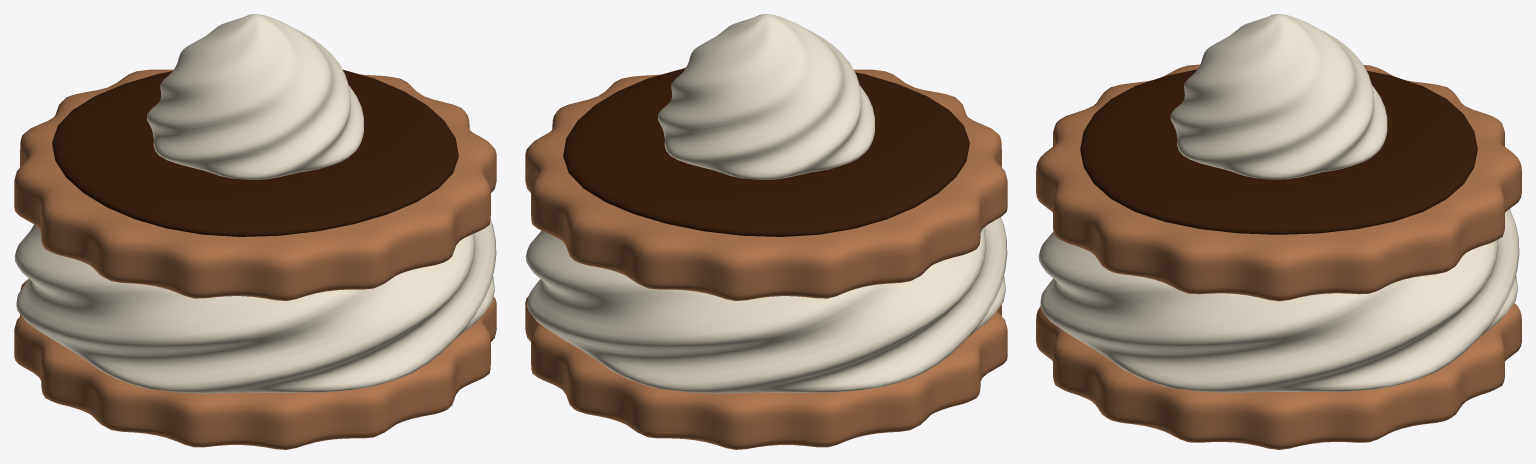
The model's file is Bomba.fbx.
3 renders of one model, left to right at view 1: azimuth 30°, elevation 25°; view 2: azimuth 150°, elevation 25°; view 3: azimuth 270°, elevation 25°, orthographic.
Visible parts, largest first — view 1: Cylinder; view 2: Cylinder; view 3: Cylinder.
Boxes of the visible parts, x1,y1,x2,y2 form: Cylinder: [14, 14, 496, 449]; Cylinder: [525, 14, 1007, 449]; Cylinder: [1036, 14, 1521, 449].
Bounding box in the file's own units: 1.88 × 1.47 × 1.88.
